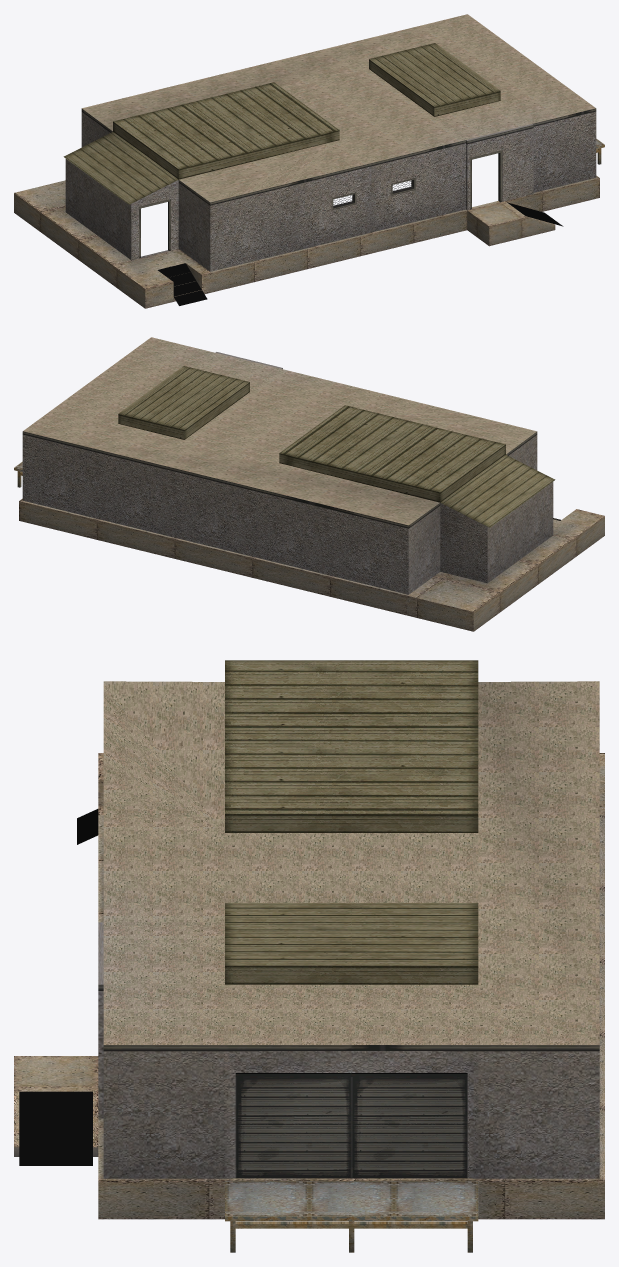
Rendered from Mission10_WareHouseExt03.glb.
The picture shows the model from 3 angles, top to bottom: view 1: azimuth 30°, elevation 25°; view 2: azimuth 150°, elevation 25°; view 3: azimuth 270°, elevation 25°; orthographic projection. The views are drawn at different scales.
Visible parts, largest first — view 1: MISSION10_WAREHOUSEEXT03; view 2: MISSION10_WAREHOUSEEXT03; view 3: MISSION10_WAREHOUSEEXT03.
Boxes of the visible parts, x1=… form: MISSION10_WAREHOUSEEXT03: x1=14, y1=14, x2=604, y2=308; MISSION10_WAREHOUSEEXT03: x1=14, y1=337, x2=604, y2=631; MISSION10_WAREHOUSEEXT03: x1=14, y1=660, x2=604, y2=1252.
Bounding box in the file's own units: 26 × 5.01 × 14.
9 materials, 8 textured.
